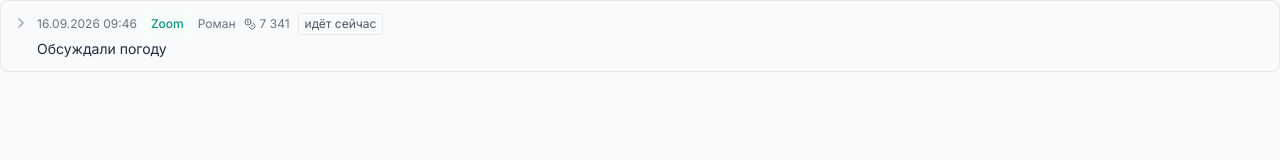
Scenario: CallSessionItem › идущая сессия перечитывает расшифровку при каждом раскрытии
The width and height of the screenshot is (1280, 160).
Click the button at {"x": 87, "y": 24}, box [13,13,383,57]
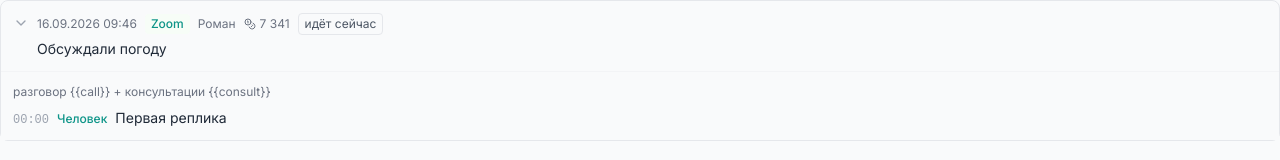
Click the button at {"x": 87, "y": 24}, box [13,13,383,57]
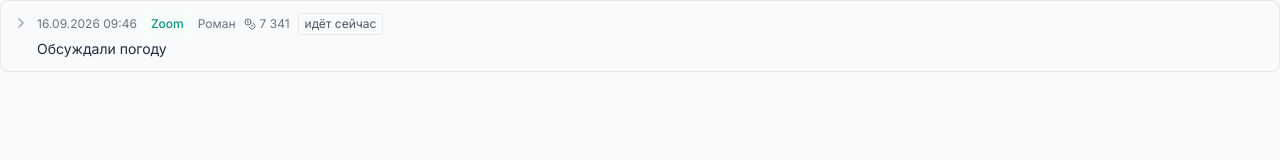
Click the button at {"x": 87, "y": 24}, box [13,13,383,57]
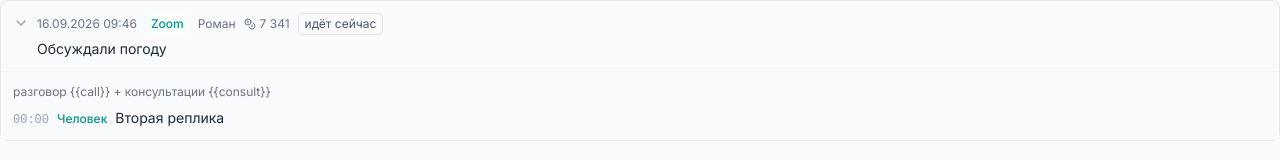
Expected: the text "Вторая реплика" is shown, [115,109,224,126]
